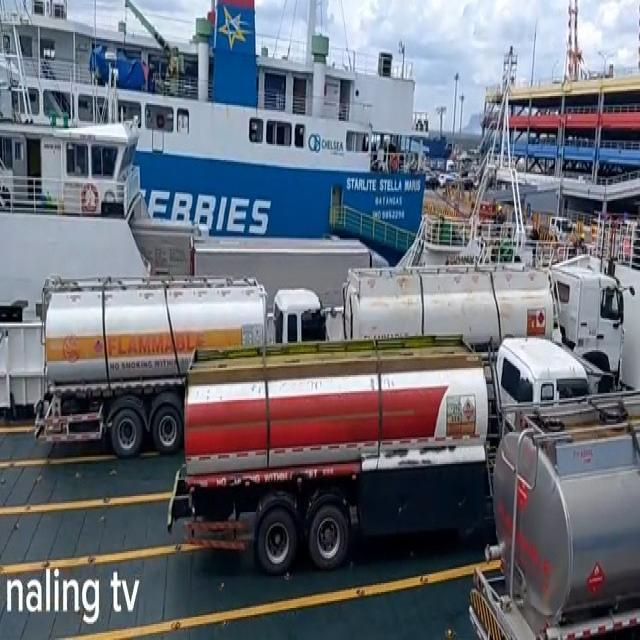truck: (174, 333, 592, 566), (39, 275, 330, 450), (471, 391, 640, 640), (344, 263, 624, 392)
